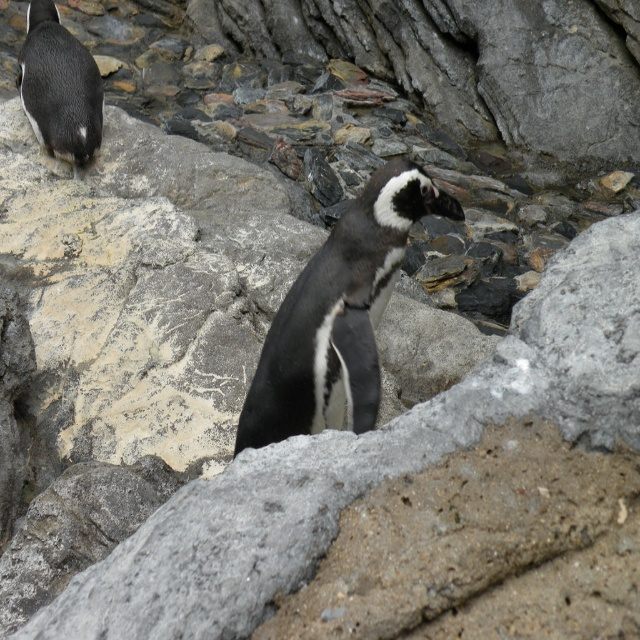Penguin: (232, 157, 468, 463), (18, 0, 105, 168)
